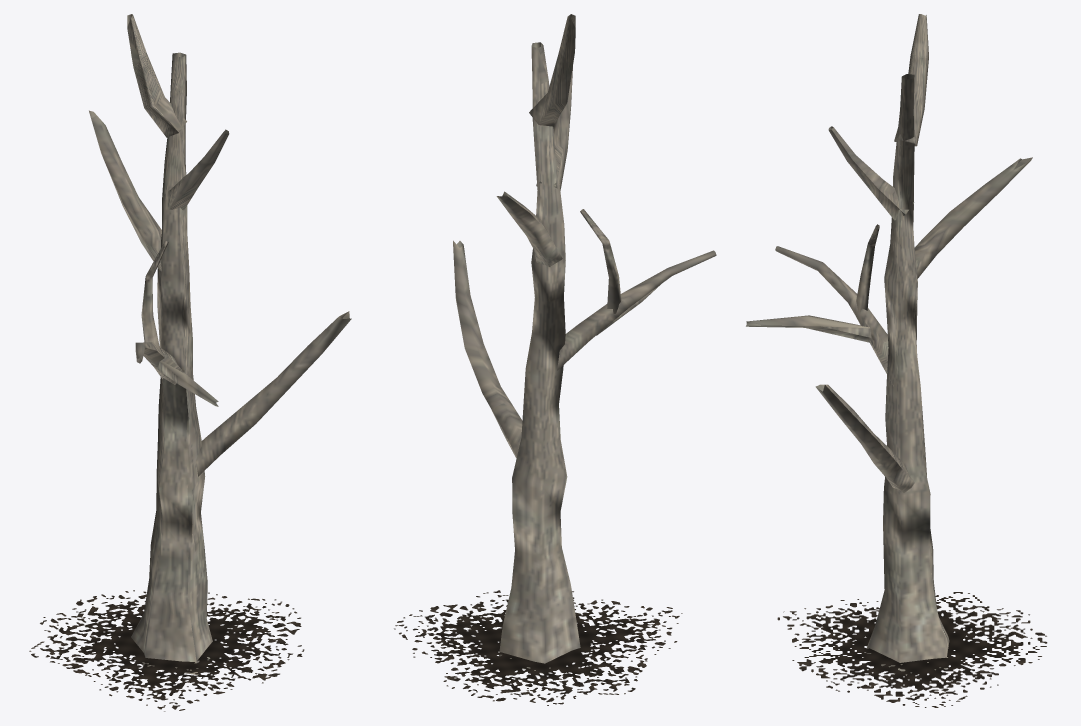
File: sapling_dead_01.glb
3 views of the same model, side by side, from view 1: azimuth 30°, elevation 25°; view 2: azimuth 150°, elevation 25°; view 3: azimuth 270°, elevation 25° (orthographic). The views are drawn at different scales.
Visible parts, largest first — view 1: sapling_dead_01; view 2: sapling_dead_01; view 3: sapling_dead_01.
Part boxes in pixels (x1,y1,x2,y2): sapling_dead_01: (29,14,351,711); sapling_dead_01: (394,14,716,705); sapling_dead_01: (746,14,1047,707).
Size of the model in its own units: 0.468 by 1.05 by 0.4876.
Materials: 2 (2 with a texture image).
